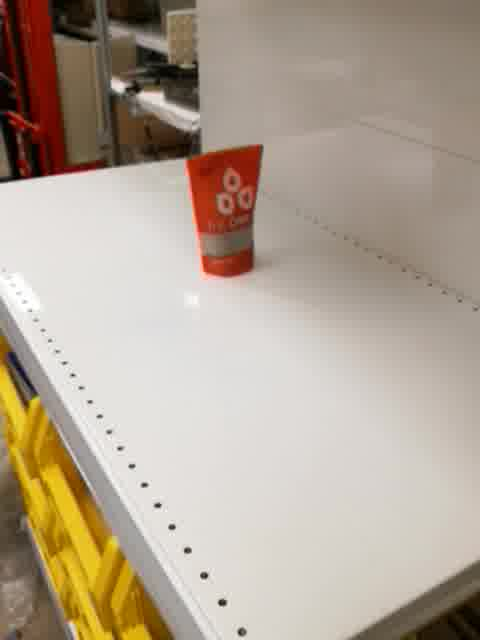whitechia: (182, 142, 265, 282)
